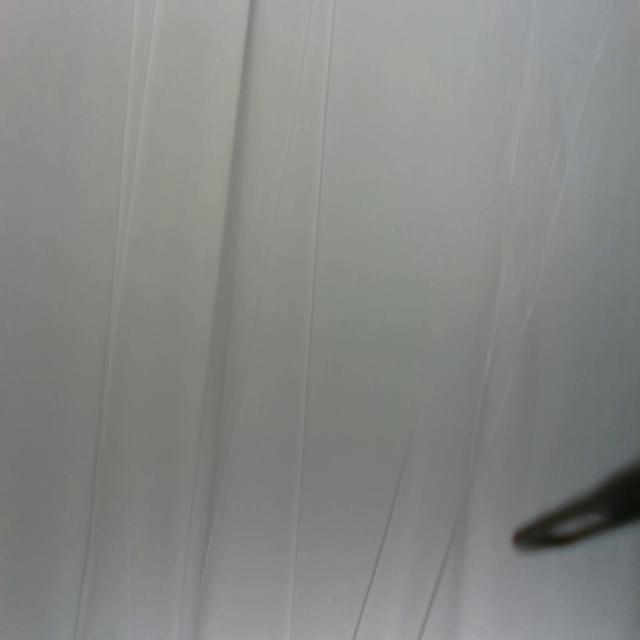crease: (470, 0, 616, 464), (74, 1, 157, 638), (286, 0, 336, 638), (354, 418, 454, 640), (199, 403, 241, 592)
